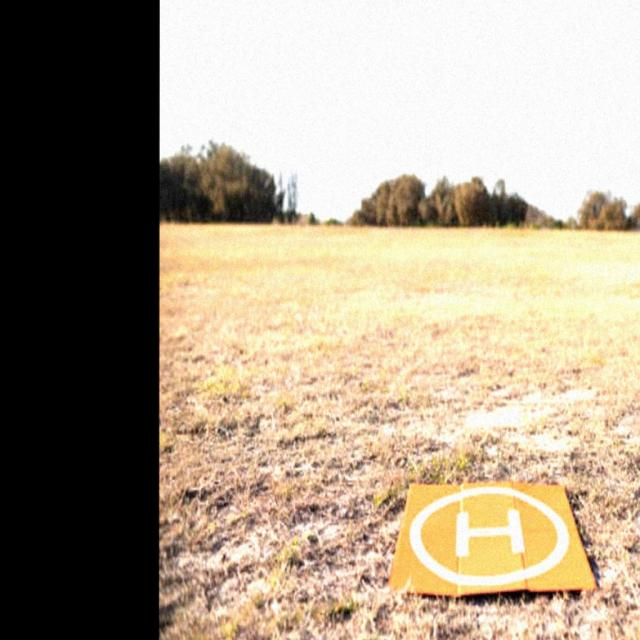helipad: (404, 483, 572, 588)
